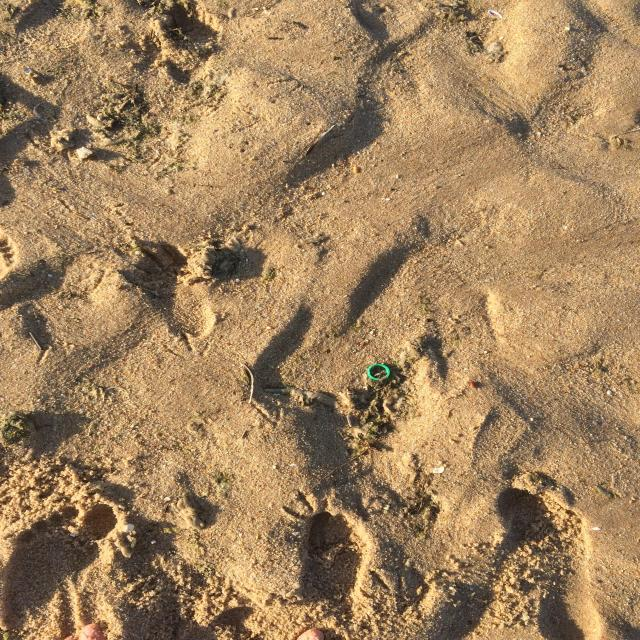Plastic bottle cap: (367, 364, 390, 380)
